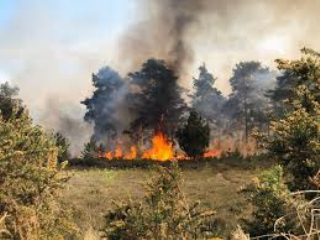fire: (112, 128, 214, 166)
smoke: (143, 2, 213, 99)
